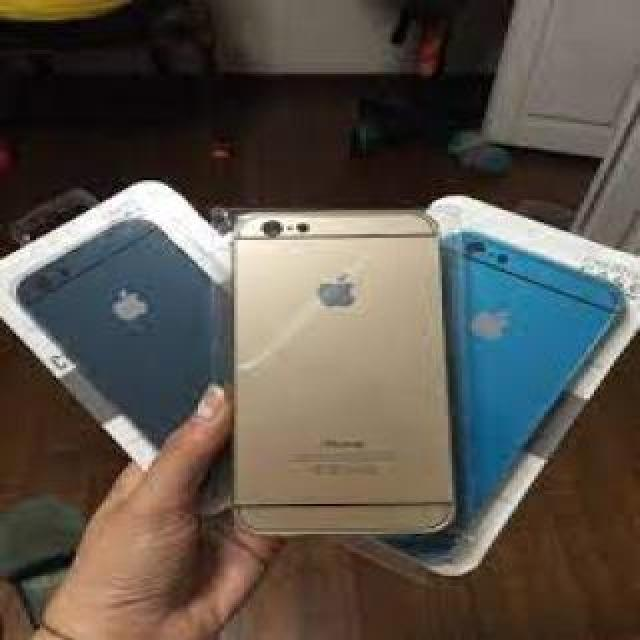smart phone: (220, 176, 455, 546), (454, 230, 624, 533), (27, 198, 228, 438)
